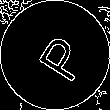P_NW: (24, 26, 86, 84)
